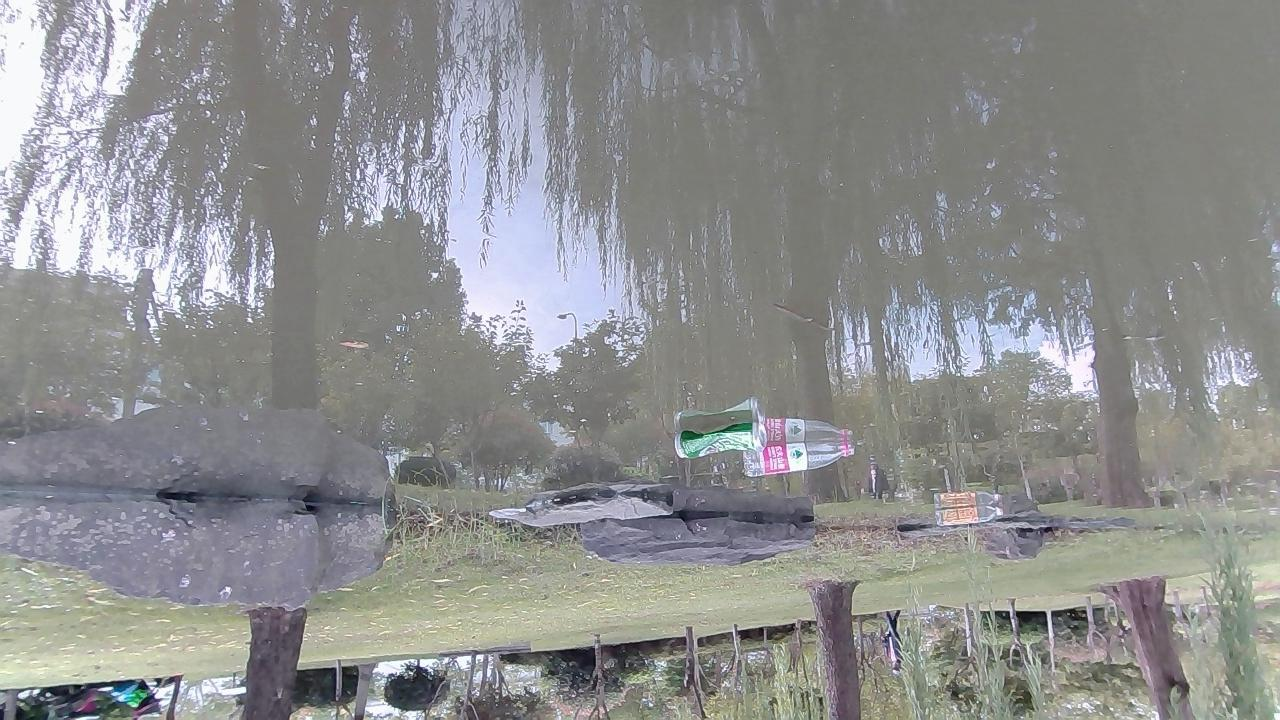Metal: (673, 420, 769, 460)
Plastic: (741, 439, 856, 477), (934, 504, 1004, 527)
